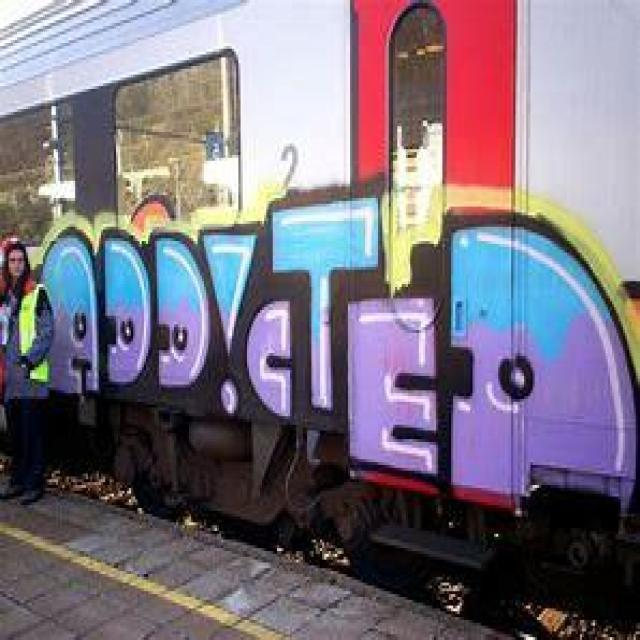nonspitting: (36, 192, 640, 508)
